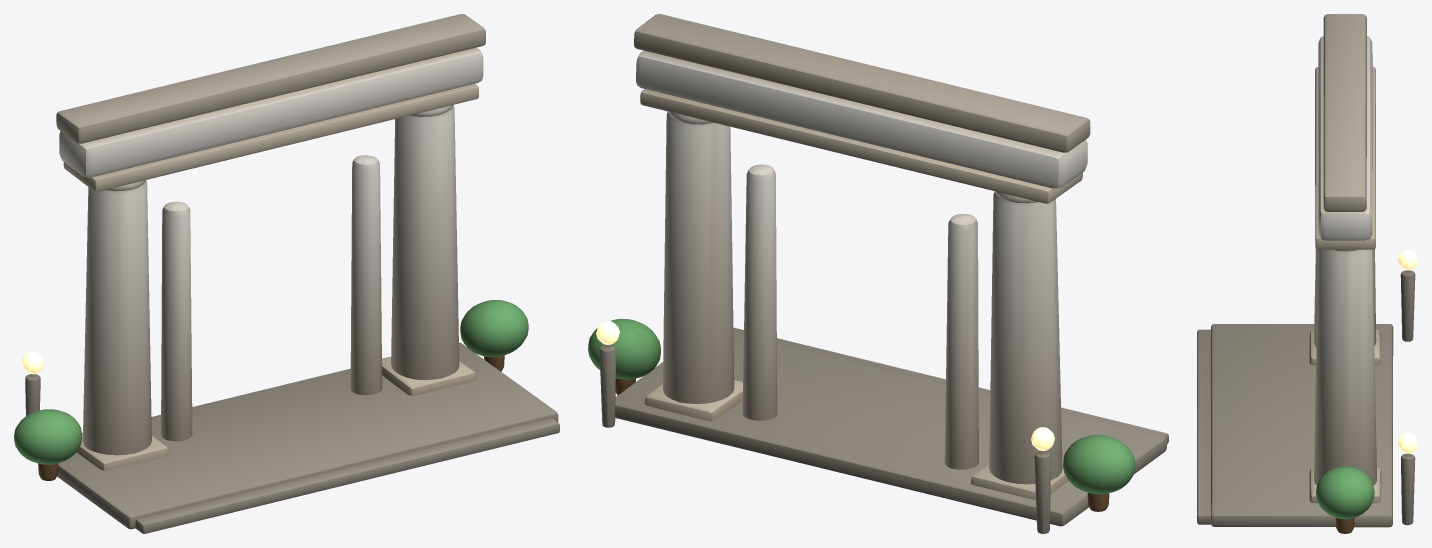
3 views of the same model, side by side, from view 1: azimuth 30°, elevation 25°; view 2: azimuth 150°, elevation 25°; view 3: azimuth 270°, elevation 25° (orthographic). The views are drawn at different scales.
Parts seen in each view (by area): view 1: gate_51d07835; view 2: gate_51d07835; view 3: gate_51d07835.
Part boxes in pixels (box(x1,y1,x2,y2)): gate_51d07835: box(14, 14, 559, 533); gate_51d07835: box(588, 14, 1168, 533); gate_51d07835: box(1197, 14, 1417, 533).
Bounding box in the file's own units: 6.21 × 4.18 × 2.55.
